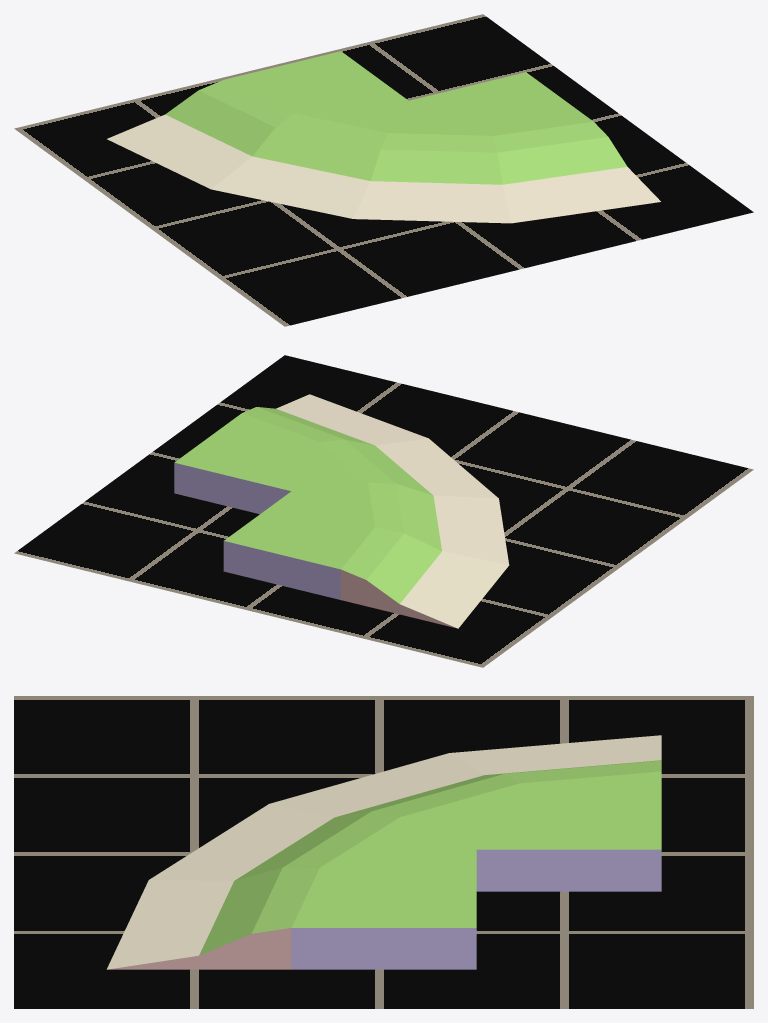
File: Path_Terrain_Basic_Curve_Outer_3x3.glb
3 views of the same model, one above another, from view 1: azimuth 30°, elevation 25°; view 2: azimuth 150°, elevation 25°; view 3: azimuth 270°, elevation 25° (orthographic). The views are drawn at different scales.
Parts seen in each view (by area): view 1: Floor, Path_Terrain_Basic_Curve_Outer_3x3; view 2: Floor, Path_Terrain_Basic_Curve_Outer_3x3; view 3: Floor, Path_Terrain_Basic_Curve_Outer_3x3.
Part boxes in pixels (bbox=[...]): Floor: bbox=[14, 14, 753, 326]; Path_Terrain_Basic_Curve_Outer_3x3: bbox=[107, 51, 660, 223]; Floor: bbox=[14, 355, 753, 667]; Path_Terrain_Basic_Curve_Outer_3x3: bbox=[174, 394, 509, 628]; Floor: bbox=[14, 696, 753, 1008]; Path_Terrain_Basic_Curve_Outer_3x3: bbox=[106, 735, 661, 969].
Size of the model in its own units: 400 by 25 by 400.
Materials: 6 (1 with a texture image).
